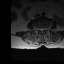CCS_normal: (41, 26, 43, 35)
LFS_normal: (45, 26, 46, 32)
LLS_normal: (43, 26, 45, 32)
RFS_normal: (37, 25, 39, 32)
RLS_normal: (39, 26, 41, 32)
